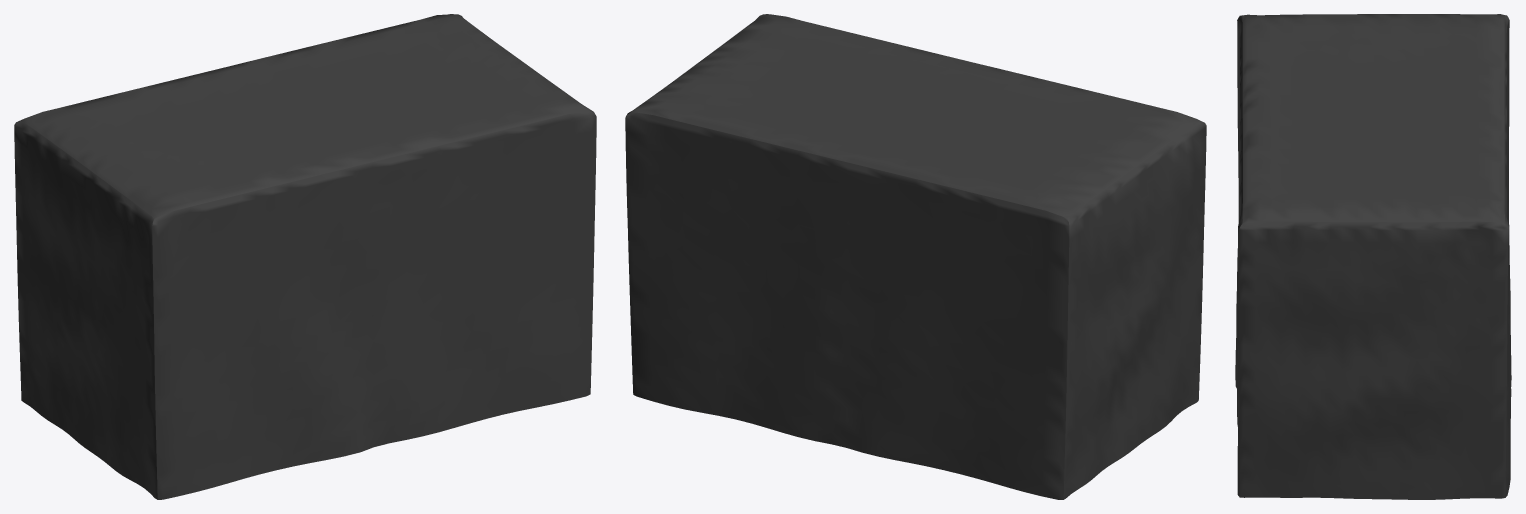
File: fitted-4ft-4-24.glb
3 views of the same model, side by side, from view 1: azimuth 30°, elevation 25°; view 2: azimuth 150°, elevation 25°; view 3: azimuth 270°, elevation 25° (orthographic). The views are drawn at different scales.
Parts seen in each view (by area): view 1: geometry_0; view 2: geometry_0; view 3: geometry_0.
Boxes of the visible parts, x1,y1,x2,y2 form: geometry_0: (14,14,596,499); geometry_0: (625,14,1206,499); geometry_0: (1235,14,1511,499).
Bounding box in the file's own units: 1.28 × 0.7856 × 0.6956.
1 material, 1 textured.
